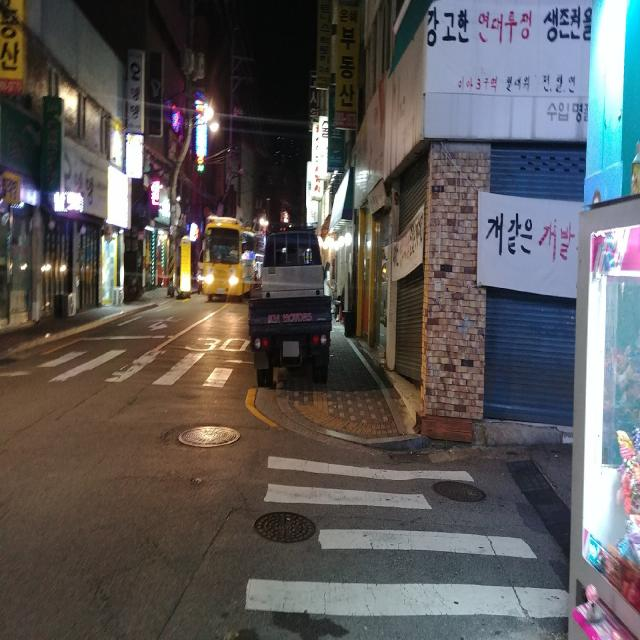횡단보도: (243, 452, 570, 620), (18, 345, 242, 389)
